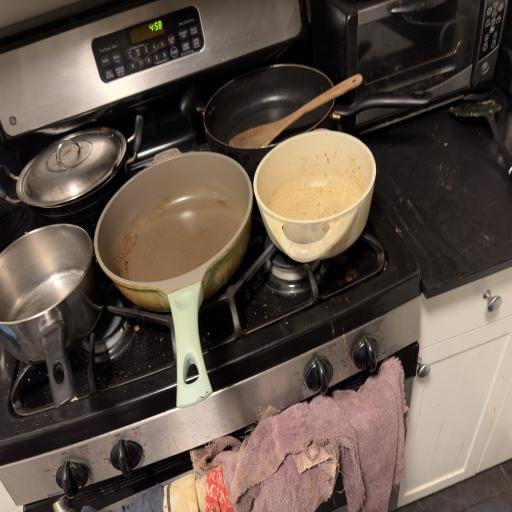Pan: (93, 148, 272, 416), (229, 114, 397, 272), (0, 222, 114, 438), (179, 67, 369, 166), (2, 132, 153, 216)
